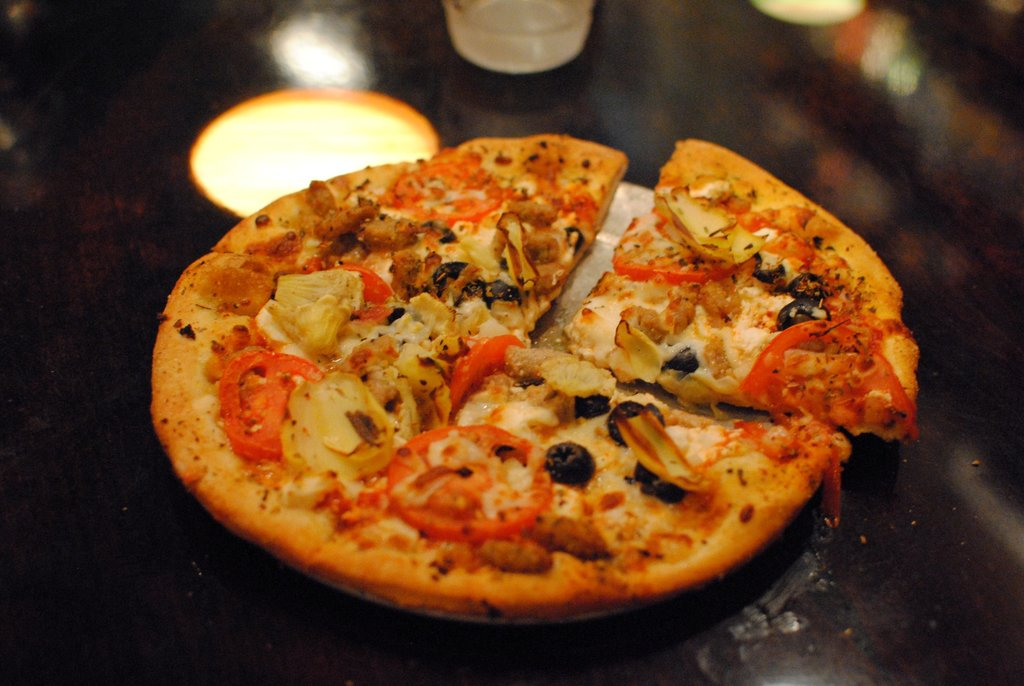Pizza: (161, 157, 864, 653)
